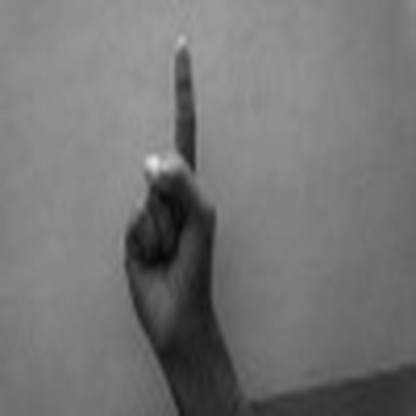d: (116, 32, 231, 352)
